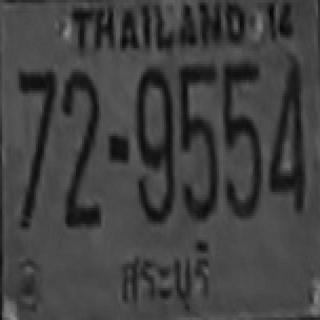N00: (179, 113, 217, 217), (136, 65, 172, 164)
N02: (61, 69, 99, 192), (62, 105, 100, 225)
N04: (267, 59, 303, 211)
N07: (17, 69, 55, 163)
P60: (117, 235, 218, 315)
